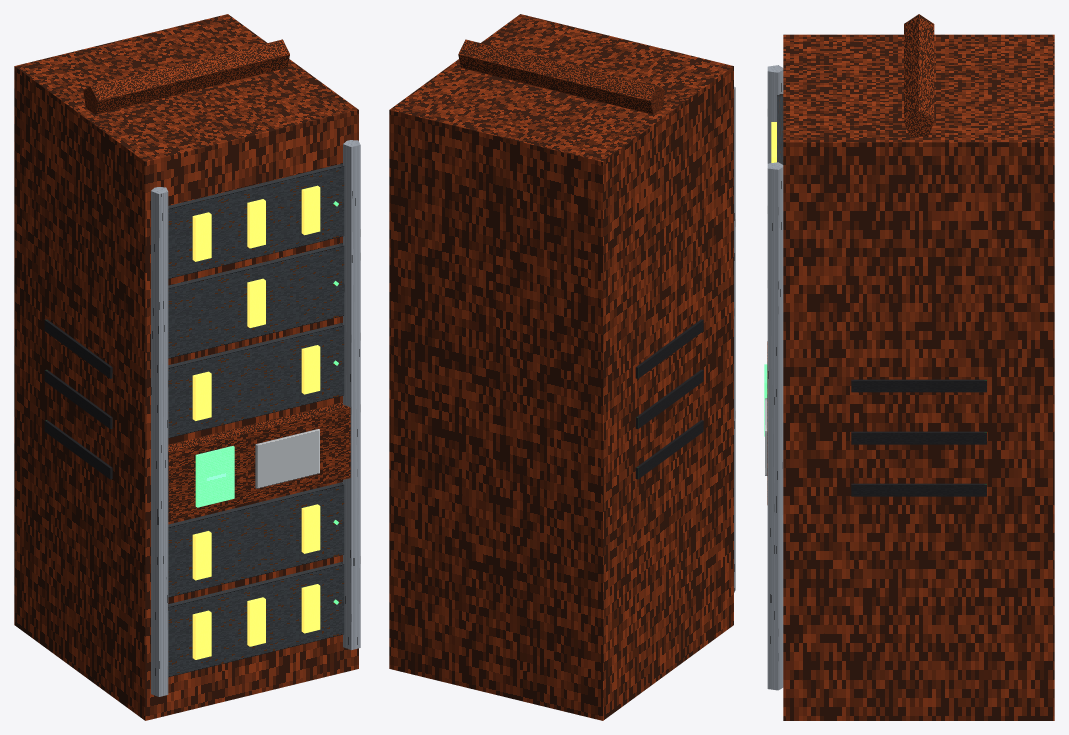
File: server_rack_derelict_decay.glb
3 renders of one model, left to right at view 1: azimuth 30°, elevation 25°; view 2: azimuth 150°, elevation 25°; view 3: azimuth 270°, elevation 25°, orthographic. The views are drawn at different scales.
Visible parts, largest first — view 1: server_rack_derelict_decay; view 2: server_rack_derelict_decay; view 3: server_rack_derelict_decay.
Part boxes in pixels (bbox=[...]): server_rack_derelict_decay: bbox=[14, 14, 360, 720]; server_rack_derelict_decay: bbox=[389, 14, 735, 720]; server_rack_derelict_decay: bbox=[764, 14, 1054, 720].
Bounding box in the file's own units: 0.818 × 2.09 × 0.91.
9 materials, 9 textured.
